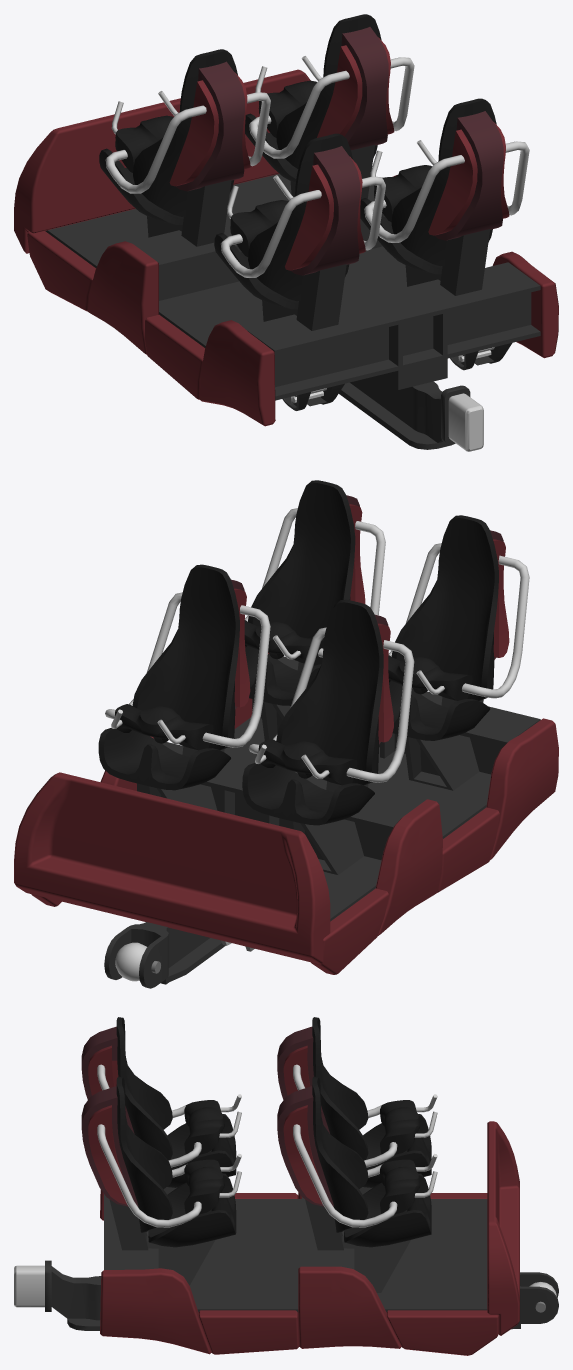
The model's file is car_back.glb.
3 renders of one model, top to bottom at view 1: azimuth 30°, elevation 25°; view 2: azimuth 150°, elevation 25°; view 3: azimuth 270°, elevation 25°, orthographic. The views are drawn at different scales.
Parts seen in each view (by area): view 1: Body2; view 2: Body2; view 3: Body2.
Part boxes in pixels (x1=…): Body2: x1=14, y1=14, x2=558, y2=451; Body2: x1=14, y1=480, x2=558, y2=988; Body2: x1=14, y1=1017, x2=558, y2=1355.
Size of the model in its own units: 2.28 by 2.22 by 4.18.
1 material, 1 textured.
